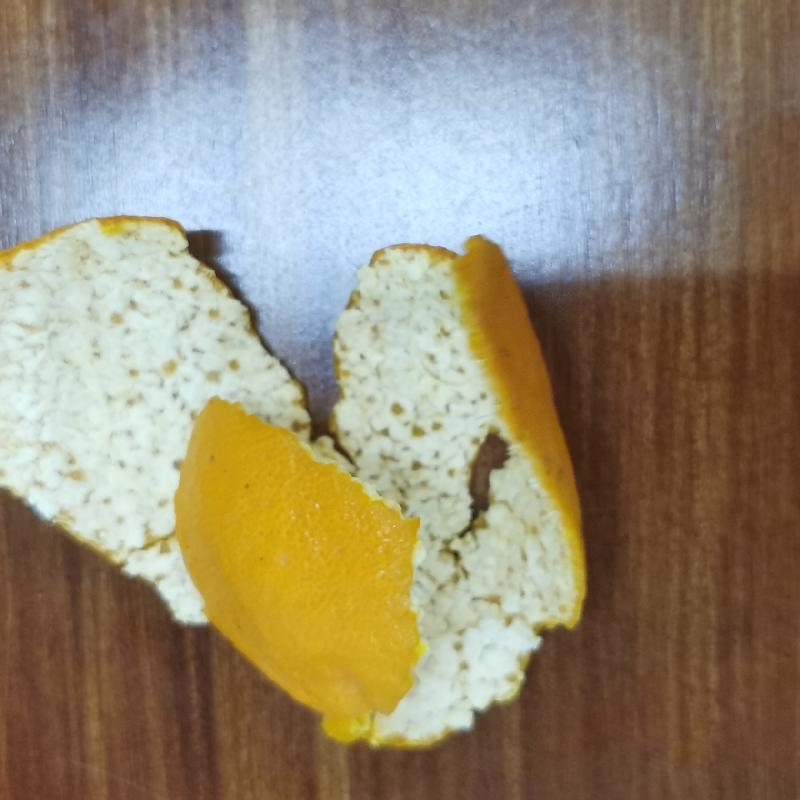orange: (3, 205, 594, 745)
